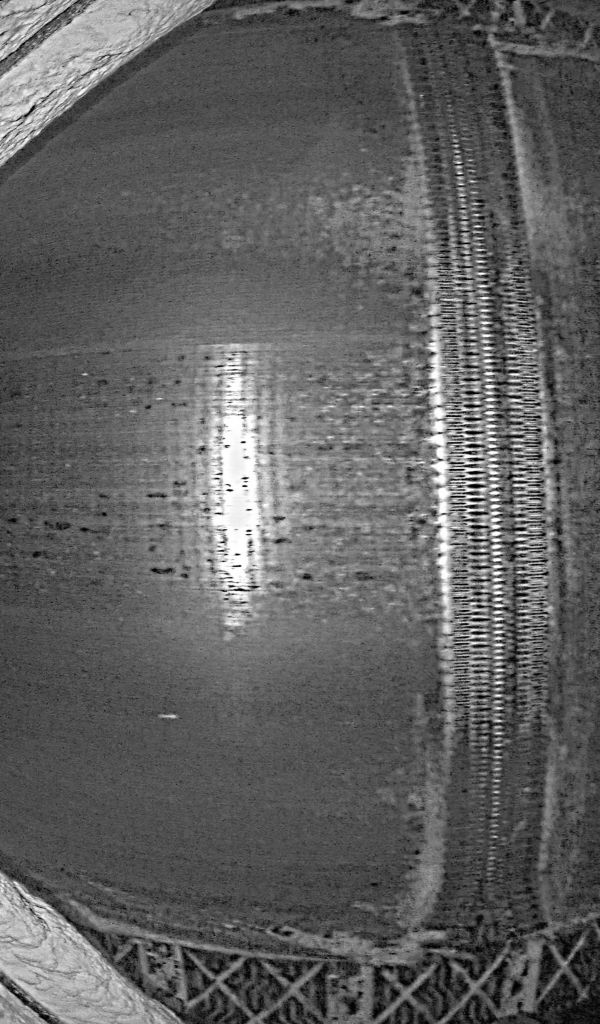damage: (417, 883, 539, 948)
splice: (386, 24, 548, 949)
